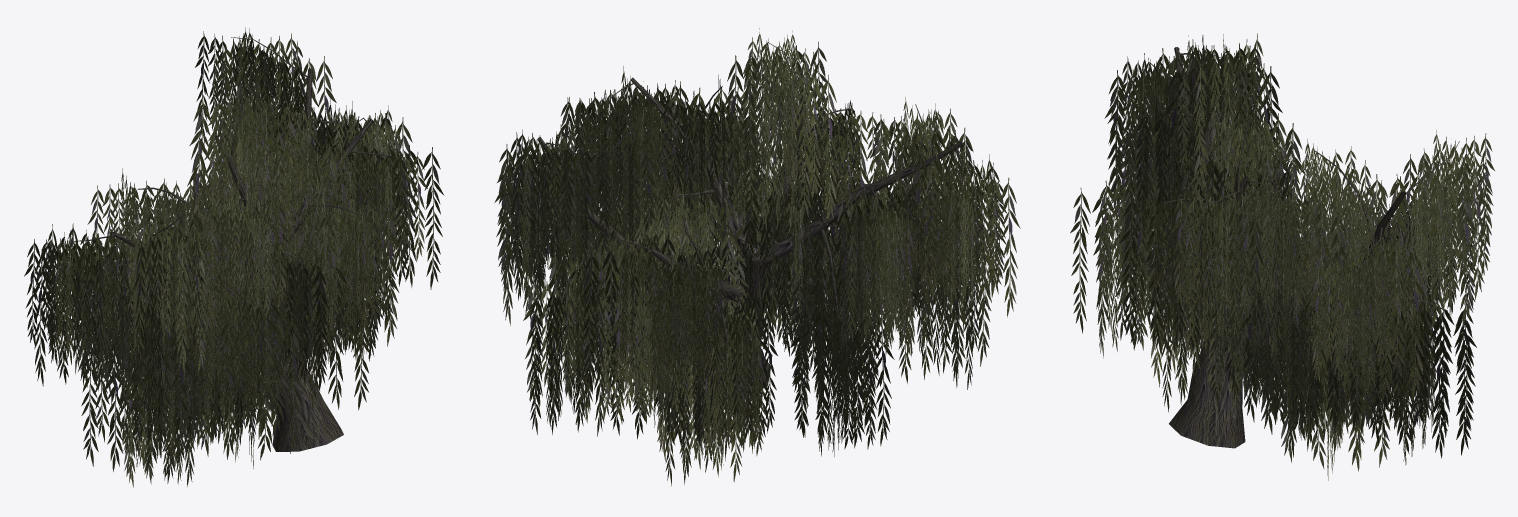
Rendered from nature-black-weeping-willow_v3.glb.
3 views of the same model, side by side, from view 1: azimuth 30°, elevation 25°; view 2: azimuth 150°, elevation 25°; view 3: azimuth 270°, elevation 25° (orthographic). The views are drawn at different scales.
Parts seen in each view (by area): view 1: nature-black-weeping-willow; view 2: nature-black-weeping-willow; view 3: nature-black-weeping-willow.
Part boxes in pixels (<box>): nature-black-weeping-willow: <box>24,27,444,487</box>; nature-black-weeping-willow: <box>494,28,1020,486</box>; nature-black-weeping-willow: <box>1070,33,1494,480</box>.
Size of the model in its own units: 9.99 by 8.31 by 8.01.
2 materials, 2 textured.
